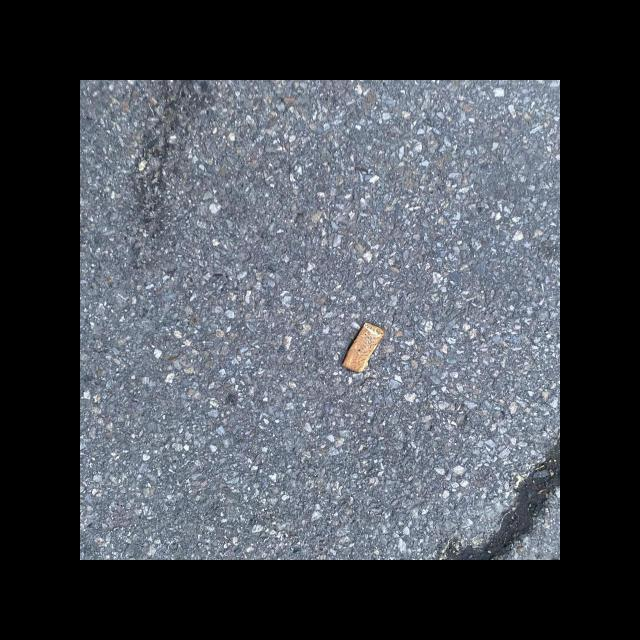cigarette: (341, 322, 385, 372)
